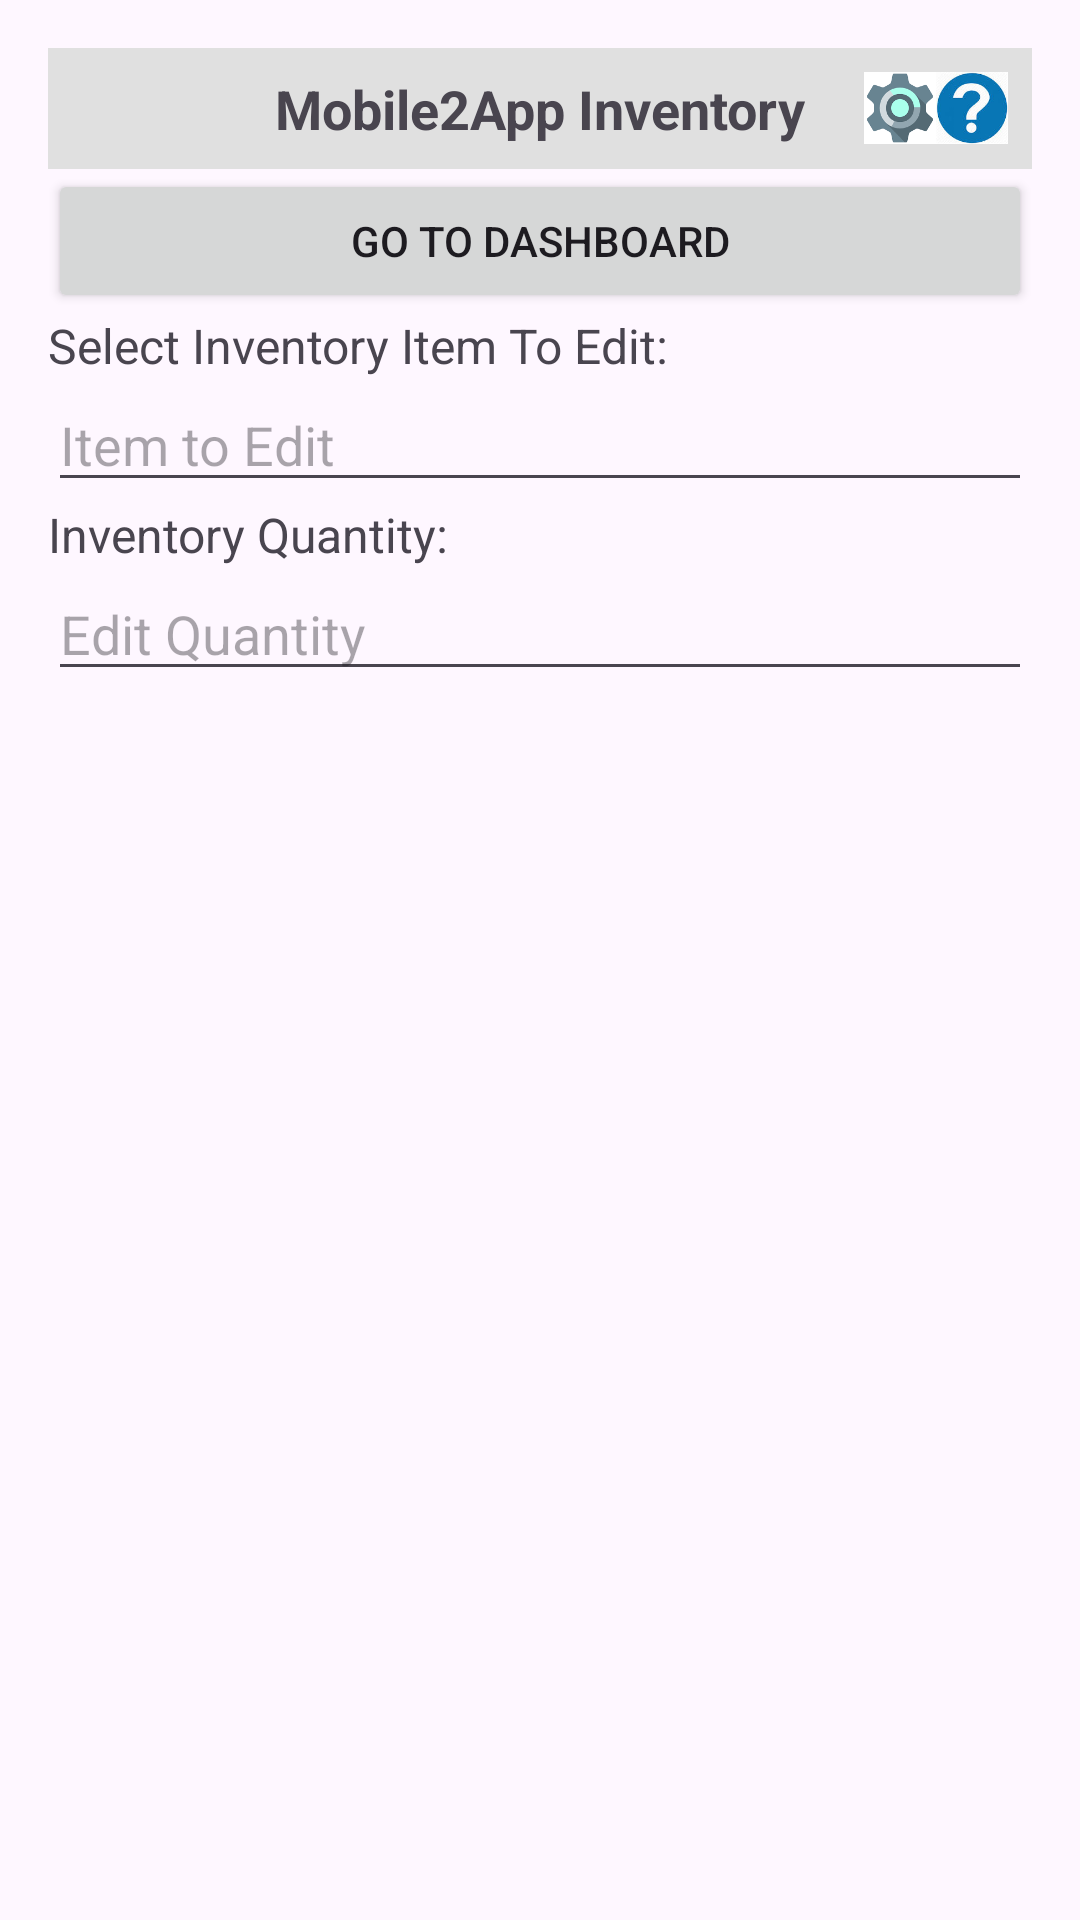

Screen size 1080px×1920px. Icon name, then its box in pixels as Rect(x1, y1, x2, y2):
help: Rect(936, 72, 1008, 144)
settings: Rect(864, 72, 936, 144)
